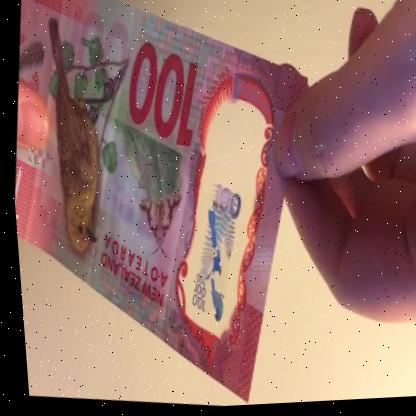100B: (173, 165, 249, 334)
